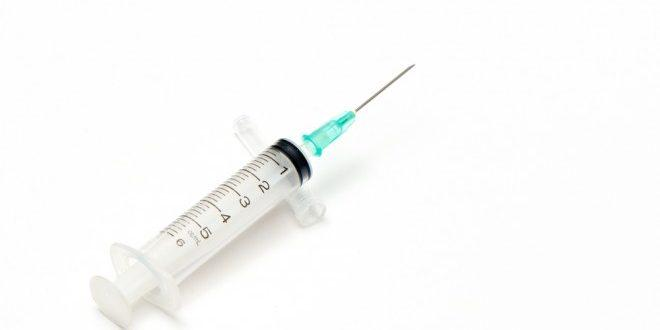Syringe: (90, 65, 413, 325)
